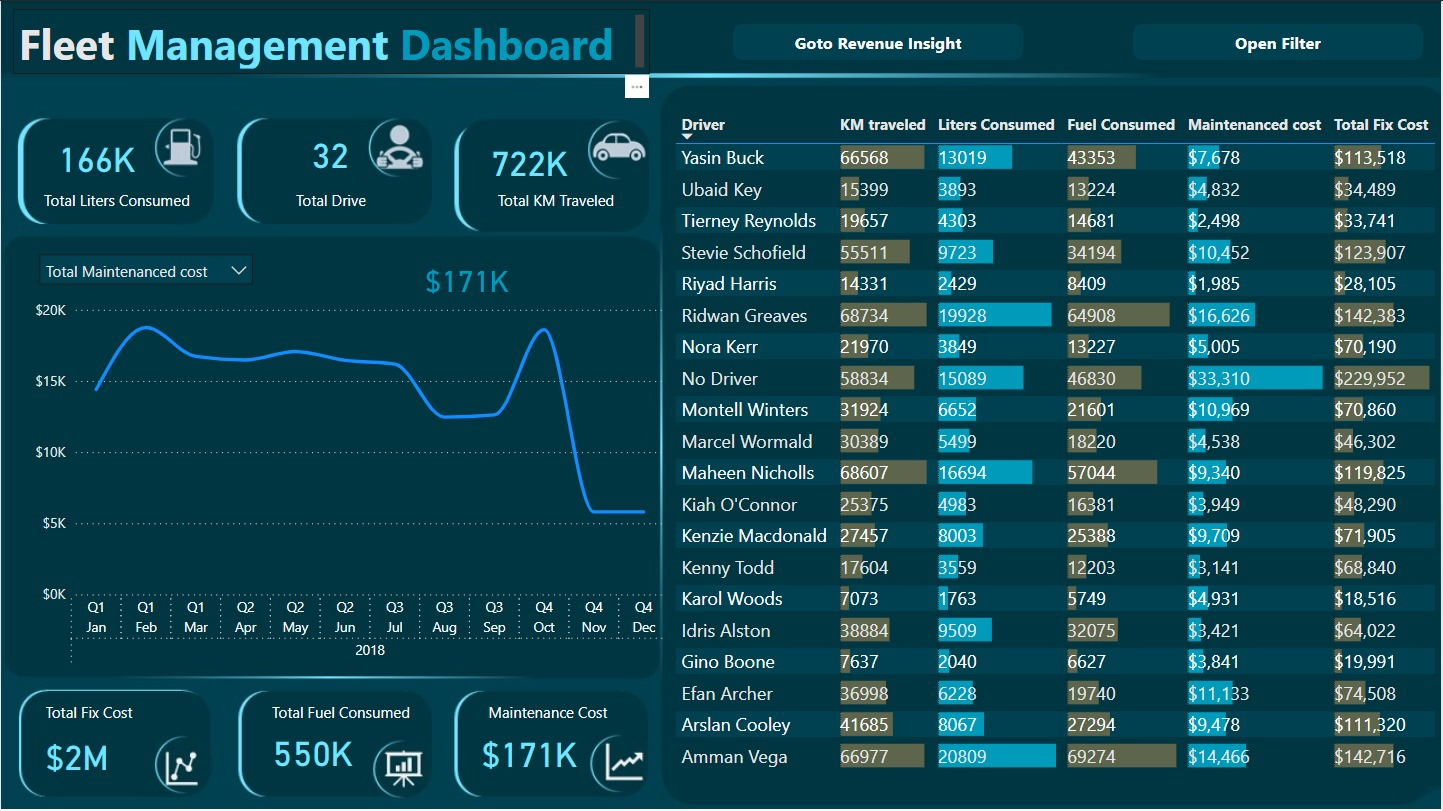

This screenshot's page, from the dashboard's own definition file:
{"tool":"powerbi","page":{"name":"Driver Dashboard","canvas":[1280,720],"ordinal":0},"visuals":[{"type":"tableEx","fields":{"Values":["Dim_Drivers.Driver","Measure.Total KM traveled","Measure.Total Liters Consumed","Measure.Total Fuel Consumed","Measure.Total Maintenanced cost","Measure.Total Fix Cost"]},"box":[594,94,686,604],"z":0},{"type":"lineChart","fields":{"Y":["Measure.Total Maintenanced cost"],"Category":["DateTable.Months.Year","DateTable.Months.Month","DateTable.Months.Quarter"]},"box":[25,260,569,339],"z":1000},{"type":"slicer","fields":{"Values":["Switch Driver Measures.Switch Driver Measures"]},"box":[24,215,210,45],"z":2000},{"type":"card","fields":{"Values":["Measure.Total Fix Cost"]},"box":[31.3,650.1,72.7,41.4],"z":3000},{"type":"card","fields":{"Values":["Measure.Total Fuel Consumed"]},"box":[234.2,643,85.8,48.5],"z":4000},{"type":"card","fields":{"Values":["Measure.Total Maintenanced cost"]},"box":[407.8,644,123.2,47.4],"z":5000},{"type":"card","fields":{"Values":["Measure.Total Maintenanced cost"]},"box":[242,226,345,45],"z":6000},{"type":"textbox","box":[11,7,566,58],"z":7000},{"type":"shape","box":[1006.2,20.4,257.8,32],"z":8000},{"type":"group","id":"g1","title":"Slicers","box":[1000.9,63.1,268.4,389.3],"z":9000},{"type":"shape","box":[1000.9,63.1,268.4,389.3],"z":10000,"group":"g1"},{"type":"shape","box":[25.2,165.6,156.5,23.2],"z":10000},{"type":"shape","box":[215,165.6,156.5,23.2],"z":11000},{"type":"shape","box":[414.9,165.6,156.5,23.2],"z":12000},{"type":"shape","box":[0,620.8,156.5,23.2],"z":13000},{"type":"shape","box":[224.1,620.8,156.5,23.2],"z":14000},{"type":"shape","box":[407.8,620.8,156.5,23.2],"z":15000},{"type":"shape","box":[1134.3,70.3,127.1,25.8],"z":15503,"group":"g1"},{"type":"card","fields":{"Values":["Measure.Total KM traveled"]},"box":[408,119,123,47],"z":16000},{"type":"card","fields":{"Values":["Measure.Total Liters Consumed"]},"box":[41,119,88,41],"z":17000},{"type":"card","fields":{"Values":["Measure.Total Drive"]},"box":[250,112,86,48],"z":18000},{"type":"shape","box":[651,20,258,32],"z":19000},{"type":"shape","box":[1006.2,411.5,257.8,32],"z":44003,"group":"g1"},{"type":"slicer","fields":{"Values":["Dim_Vehicles.Truck Type"]},"box":[1000.9,92.4,149.3,299.6],"z":44503,"group":"g1"},{"type":"slicer","fields":{"Values":["Dim_Vehicles.Trailers Type"]},"box":[1120,92.4,149.3,299.6],"z":45003,"group":"g1"},{"type":"shape","box":[1011.6,70.2,127.1,25.8],"z":45503,"group":"g1"}]}

Visuals, with their boxes in screenshot pixels (x1, y1, x2, y2), scaled from the page's 1280x720 canvas onto the 1443x811 screenshot:
tableEx - Dim_Drivers.Driver x Measure.Total KM traveled: BBox(670, 106, 1442, 786)
lineChart - Measure.Total Maintenanced cost x DateTable.Months.Year: BBox(28, 293, 670, 675)
slicer - Switch Driver Measures.Switch Driver Measures: BBox(27, 242, 264, 293)
card - Measure.Total Fix Cost: BBox(35, 732, 117, 779)
card - Measure.Total Fuel Consumed: BBox(264, 724, 361, 779)
card - Measure.Total Maintenanced cost: BBox(460, 725, 599, 779)
card - Measure.Total Maintenanced cost: BBox(273, 255, 662, 305)
textbox: BBox(12, 8, 650, 73)
shape: BBox(1134, 23, 1425, 59)
"Slicers" group: BBox(1128, 71, 1431, 510)
shape: BBox(1128, 71, 1431, 510)
shape: BBox(28, 187, 205, 213)
shape: BBox(242, 187, 419, 213)
shape: BBox(468, 187, 644, 213)
shape: BBox(0, 699, 176, 725)
shape: BBox(253, 699, 429, 725)
shape: BBox(460, 699, 636, 725)
shape: BBox(1279, 79, 1422, 108)
card - Measure.Total KM traveled: BBox(460, 134, 599, 187)
card - Measure.Total Liters Consumed: BBox(46, 134, 145, 180)
card - Measure.Total Drive: BBox(282, 126, 379, 180)
shape: BBox(734, 23, 1025, 59)
shape: BBox(1134, 464, 1425, 500)
slicer - Dim_Vehicles.Truck Type: BBox(1128, 104, 1297, 442)
slicer - Dim_Vehicles.Trailers Type: BBox(1263, 104, 1431, 442)
shape: BBox(1140, 79, 1284, 108)
